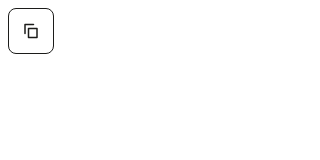
Test: CopyButton › shows only an icon when asked, keeping its name
Click the button named "Copy": click(31, 31) [8,8,54,54]
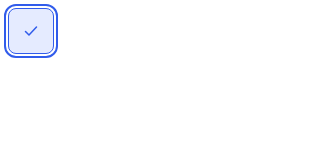
Expected: the button named "Copied" is shown, [8,8,54,54]
